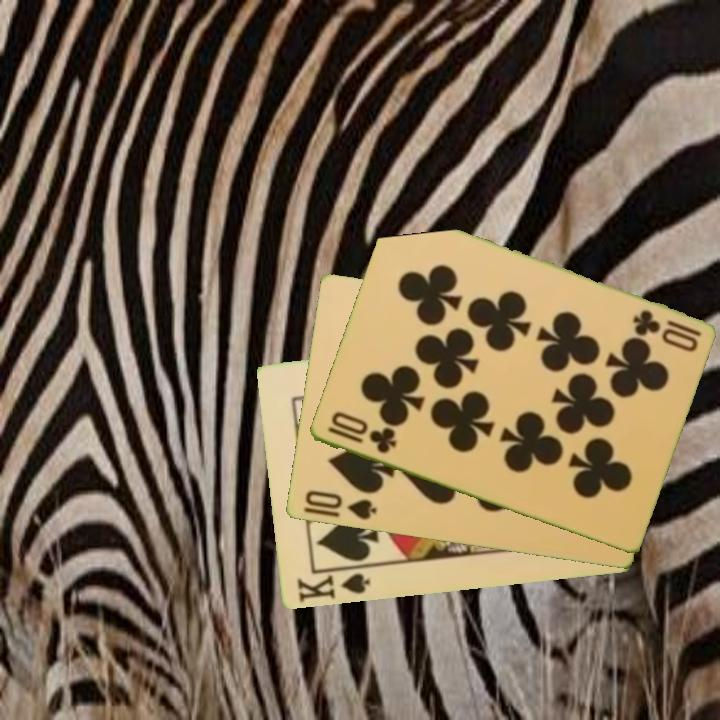10c: (323, 408, 399, 457), (628, 306, 704, 354)
10s: (301, 487, 379, 523)
Ks: (293, 570, 373, 606)
